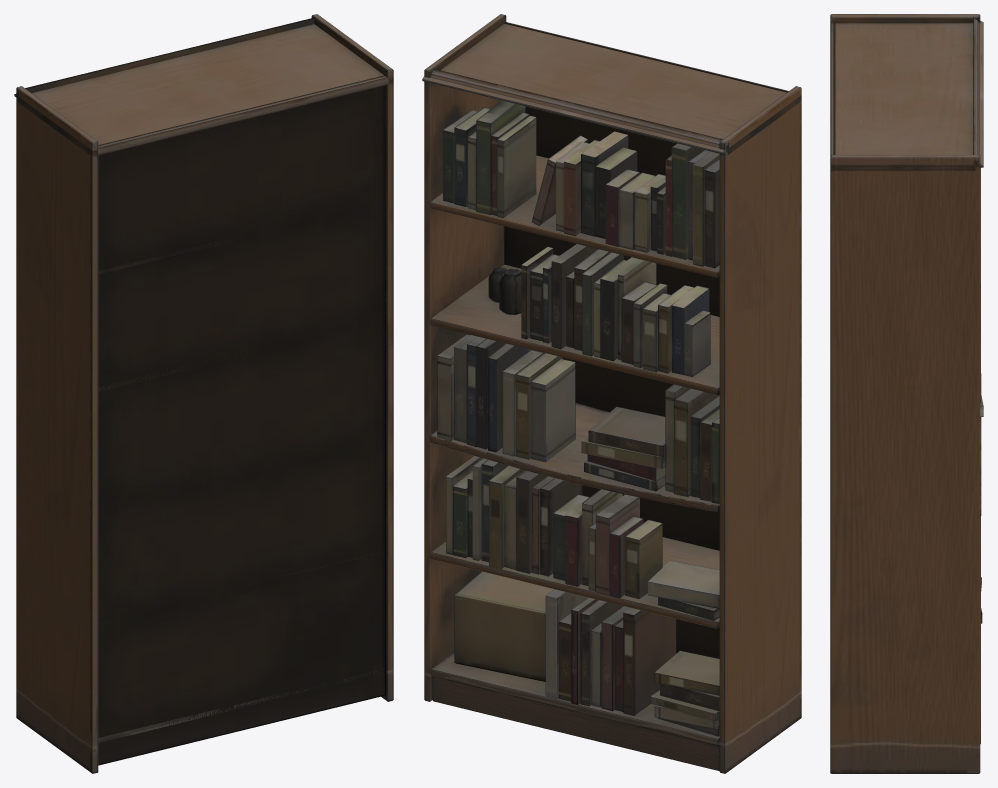
File: furniture_shelf_module.glb
The picture shows the model from 3 angles, left to right: view 1: azimuth 30°, elevation 25°; view 2: azimuth 150°, elevation 25°; view 3: azimuth 270°, elevation 25°; orthographic projection. The views are drawn at different scales.
Visible parts, largest first — view 1: furniture_shelf_module; view 2: furniture_shelf_module; view 3: furniture_shelf_module.
Boxes of the visible parts, x1,y1,x2,y2 form: furniture_shelf_module: (14,14,393,773); furniture_shelf_module: (422,14,801,773); furniture_shelf_module: (830,14,983,773).
Bounding box in the file's own units: 1 × 2 × 0.45.
Materials: 1 (1 with a texture image).
